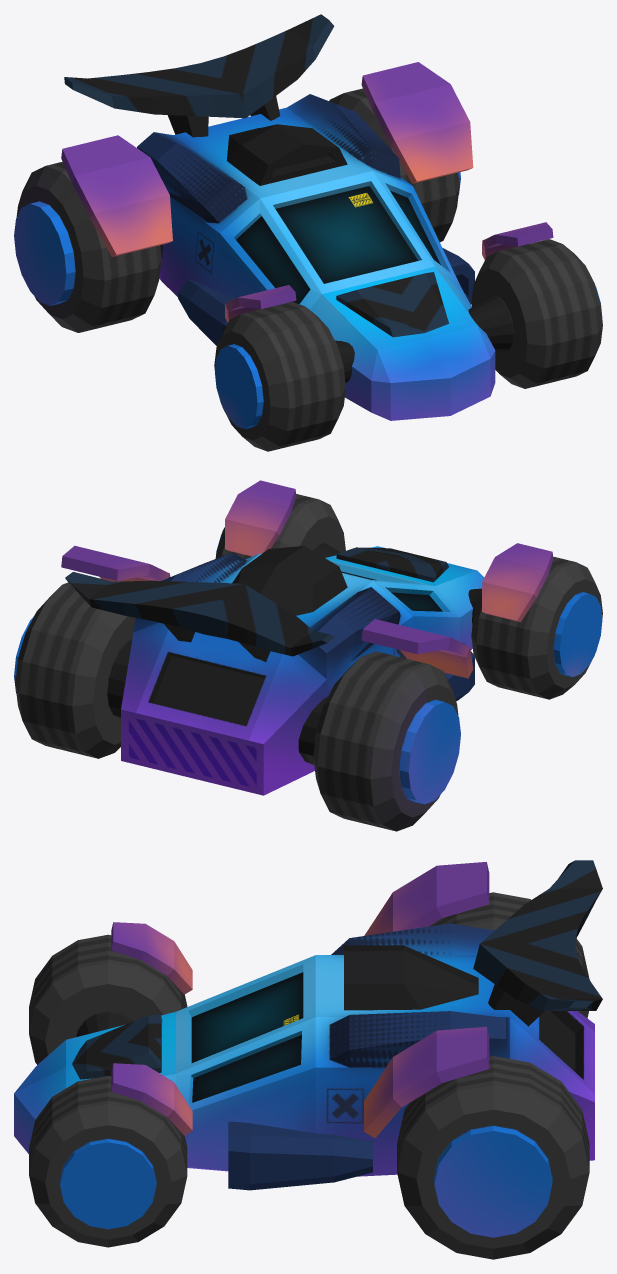
Rendered from Car-1.fbx.
3 views of the same model, one above another, from view 1: azimuth 30°, elevation 25°; view 2: azimuth 150°, elevation 25°; view 3: azimuth 270°, elevation 25° (orthographic). The views are drawn at different scales.
Visible parts, largest first — view 1: Cube.176, Cylinder.203, Cylinder.198, Cylinder.204, Cube.174, Cylinder.201, Cylinder.199, Cylinder.197, Cube.175, Cylinder.200, Cylinder.202; view 2: Cube.176, Cylinder.204, Cylinder.197, Cylinder.203, Cube.174, Cylinder.202, Cylinder.200, Cylinder.201, Cylinder.198, Cylinder.199, Cube.175; view 3: Cube.176, Cylinder.197, Cylinder.198, Cube.174, Cylinder.203, Cube.175, Cylinder.199, Cylinder.201, Cylinder.200, Cylinder.202, Cylinder.204.
Boxes of the visible parts, x1,y1,x2,y2 form: Cube.176: (137,94,495,420); Cylinder.203: (214,301,354,451); Cylinder.198: (468,239,602,388); Cylinder.204: (14,162,162,332); Cube.174: (64,14,334,137); Cylinder.201: (61,135,172,256); Cylinder.199: (361,62,473,183); Cylinder.197: (329,88,460,242); Cube.175: (178,248,474,345); Cylinder.200: (482,222,553,259); Cylinder.202: (225,285,296,322); Cube.176: (121,546,484,795); Cylinder.204: (298,651,460,831); Cylinder.197: (14,582,135,758); Cylinder.203: (468,556,602,699); Cube.174: (65,572,334,661); Cylinder.202: (482,543,553,621); Cylinder.200: (225,480,296,556); Cylinder.201: (361,619,473,678); Cylinder.198: (215,494,345,559); Cylinder.199: (61,545,170,581); Cube.175: (444,643,474,700); Cube.176: (14,923,594,1176); Cylinder.197: (397,1056,589,1259); Cylinder.198: (29,1076,187,1247); Cube.174: (473,860,602,1026); Cylinder.203: (29,934,187,1064); Cube.175: (228,1121,372,1190); Cylinder.199: (364,1026,489,1137); Cylinder.201: (364,862,489,935); Cylinder.200: (111,1063,192,1135); Cylinder.202: (111,922,192,994); Cylinder.204: (428,892,589,1018).
Bounding box in the file's own units: 316 × 158 × 363.
